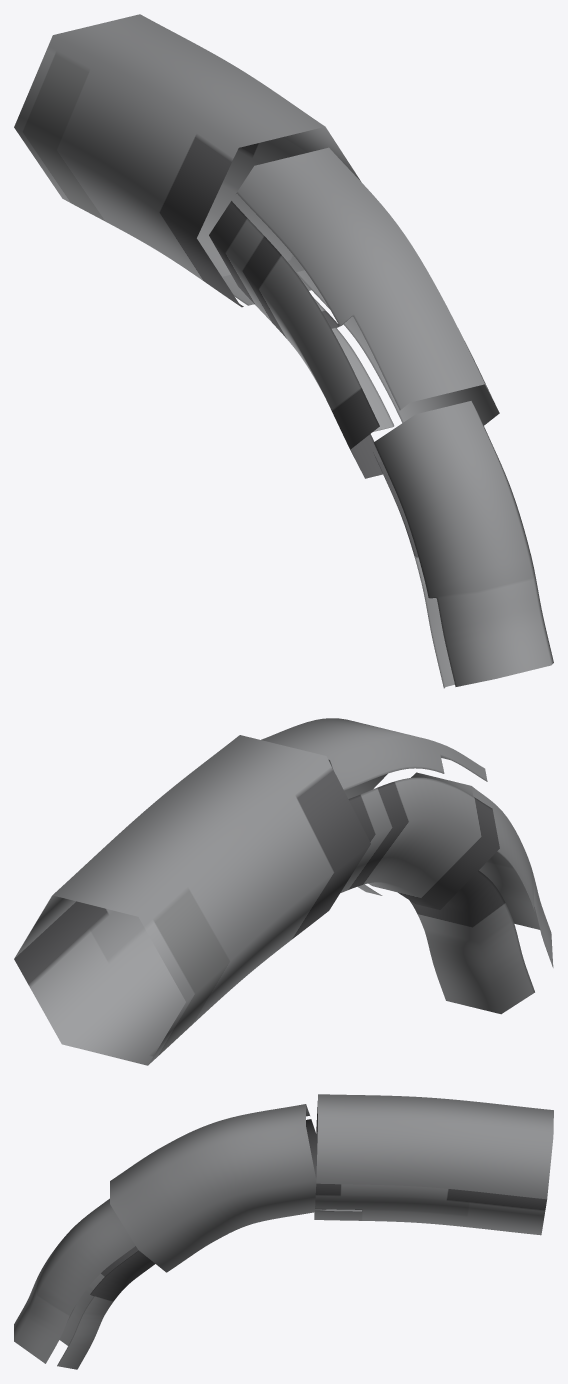
3 views of the same model, one above another, from view 1: azimuth 30°, elevation 25°; view 2: azimuth 150°, elevation 25°; view 3: azimuth 270°, elevation 25° (orthographic). The views are drawn at different scales.
Size of the model in its own units: 0.3577 by 0.7864 by 1.52.
